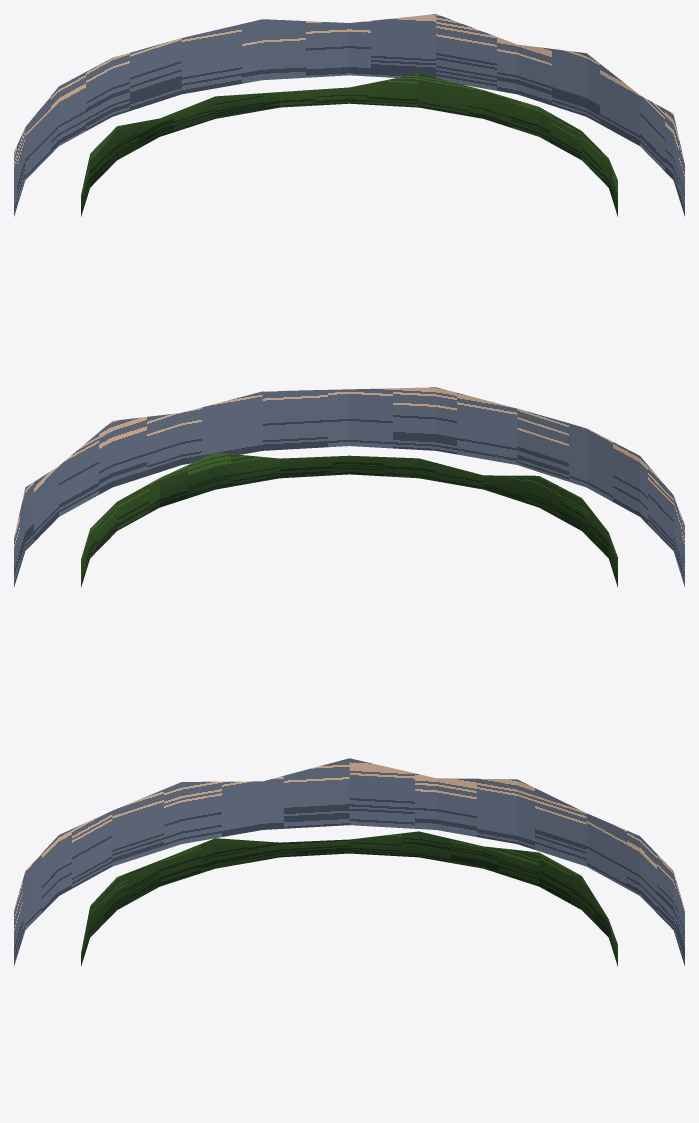
File: mter.backdrop__mountains.glb
The picture shows the model from 3 angles, top to bottom: view 1: azimuth 30°, elevation 25°; view 2: azimuth 150°, elevation 25°; view 3: azimuth 270°, elevation 25°; orthographic projection.
Visible parts, largest first — view 1: kit_shell_vista_far, kit_shell_vista; view 2: kit_shell_vista_far, kit_shell_vista; view 3: kit_shell_vista_far, kit_shell_vista.
Part boxes in pixels (x1,y1,x2,y2): kit_shell_vista_far: (14, 14, 684, 216); kit_shell_vista: (81, 73, 617, 216); kit_shell_vista_far: (14, 387, 684, 586); kit_shell_vista: (81, 452, 617, 587); kit_shell_vista_far: (14, 758, 684, 965); kit_shell_vista: (81, 831, 617, 966).
Bounding box in the file's own units: 650 × 71.56 × 650.
Materials: 2 (2 with a texture image).
